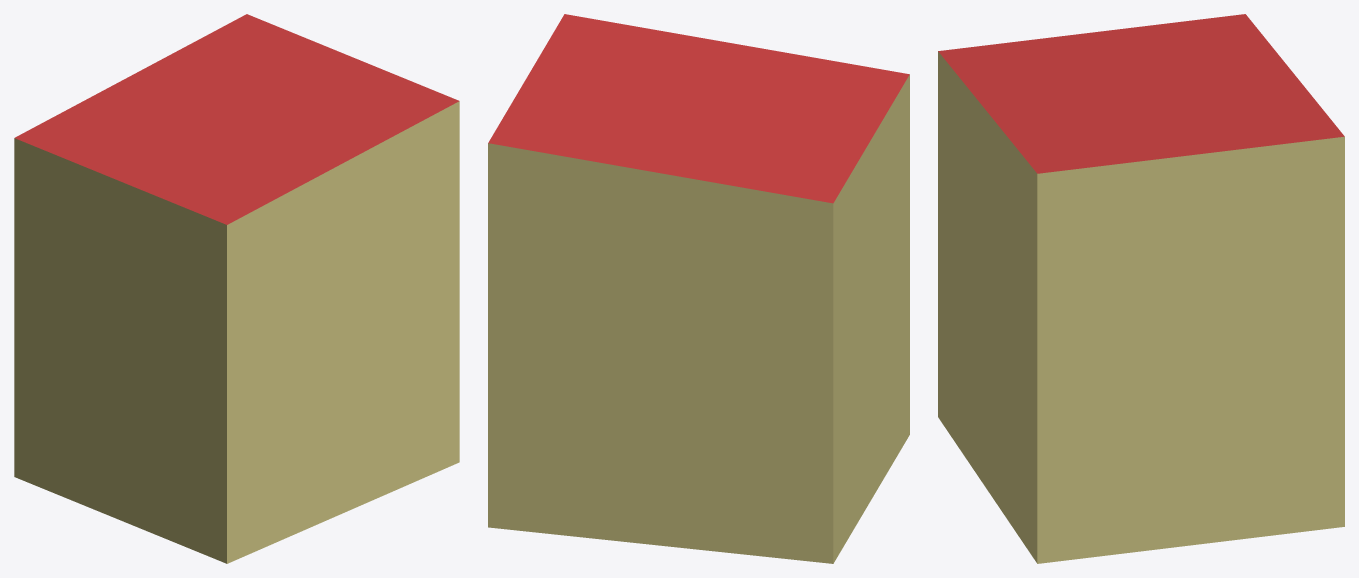
3 renders of one model, left to right at view 1: azimuth 30°, elevation 25°; view 2: azimuth 150°, elevation 25°; view 3: azimuth 270°, elevation 25°, orthographic. The views are drawn at different scales.
Size of the model in its own units: 5.75 by 5.37 by 5.68.
